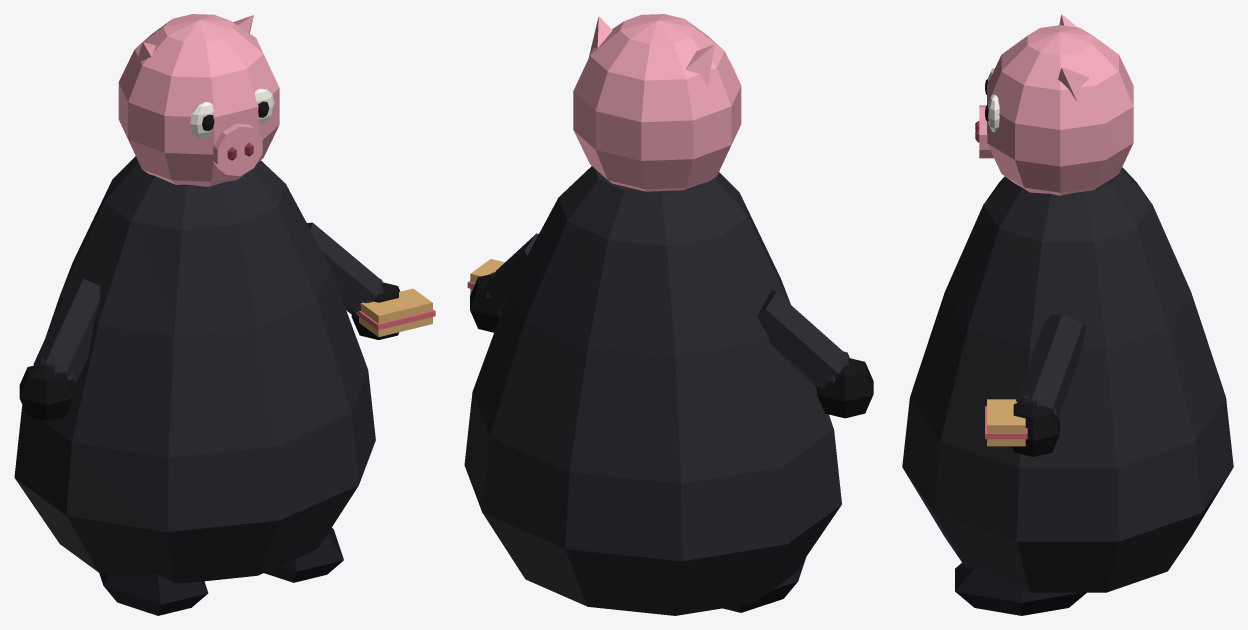
File: npc_ladron_chancho.glb
3 renders of one model, left to right at view 1: azimuth 30°, elevation 25°; view 2: azimuth 150°, elevation 25°; view 3: azimuth 270°, elevation 25°, orthographic. The views are drawn at different scales.
Parts seen in each view (by area): view 1: body_robber_black, head_mask_pig, arms_robber_black, legs_black, arms_glove_black (×2), props_sandwich_bread, face_mask_pig, face_white; view 2: body_robber_black, head_mask_pig, arms_robber_black, arms_glove_black (×2), legs_black; view 3: body_robber_black, head_mask_pig, arms_robber_black, legs_black, arms_glove_black, props_sandwich_bread, face_mask_pig.
Boxes of the visible parts, box(x1,y1,x2,y2) form: body_robber_black: box(14, 156, 375, 583); head_mask_pig: box(118, 14, 279, 186); arms_robber_black: box(33, 222, 383, 386); legs_black: box(99, 527, 343, 615); arms_glove_black (×2): box(19, 282, 400, 421); props_sandwich_bread: box(359, 288, 432, 337); face_mask_pig: box(212, 123, 262, 176); face_white: box(190, 88, 274, 138); body_robber_black: box(464, 166, 841, 615); head_mask_pig: box(573, 14, 741, 191); arms_robber_black: box(484, 233, 849, 389); arms_glove_black (×2): box(470, 274, 873, 418); legs_black: box(723, 557, 806, 612); body_robber_black: box(902, 167, 1233, 592); head_mask_pig: box(987, 14, 1133, 195); arms_robber_black: box(1016, 315, 1086, 417); legs_black: box(955, 563, 1086, 615); arms_glove_black: box(1012, 402, 1059, 456); props_sandwich_bread: box(987, 399, 1025, 446); face_mask_pig: box(979, 105, 993, 158).
Size of the model in its own units: 1.15 by 1.55 by 0.86.
